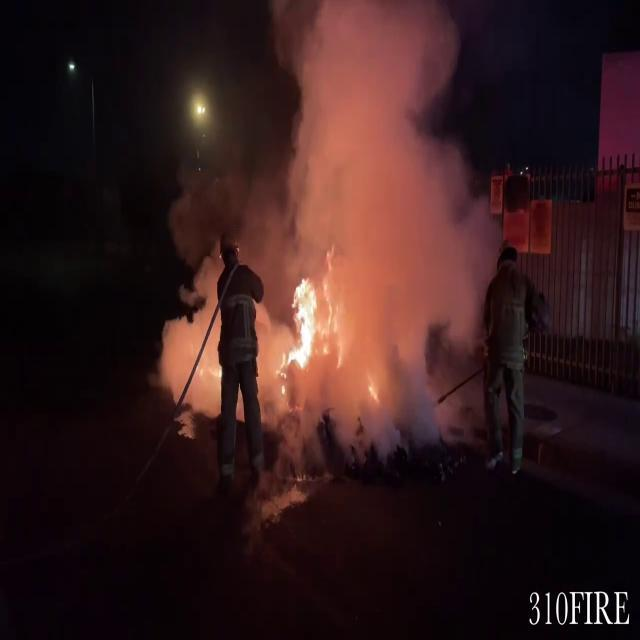Fire: (276, 272, 326, 387)
Smoke: (252, 0, 490, 436)
